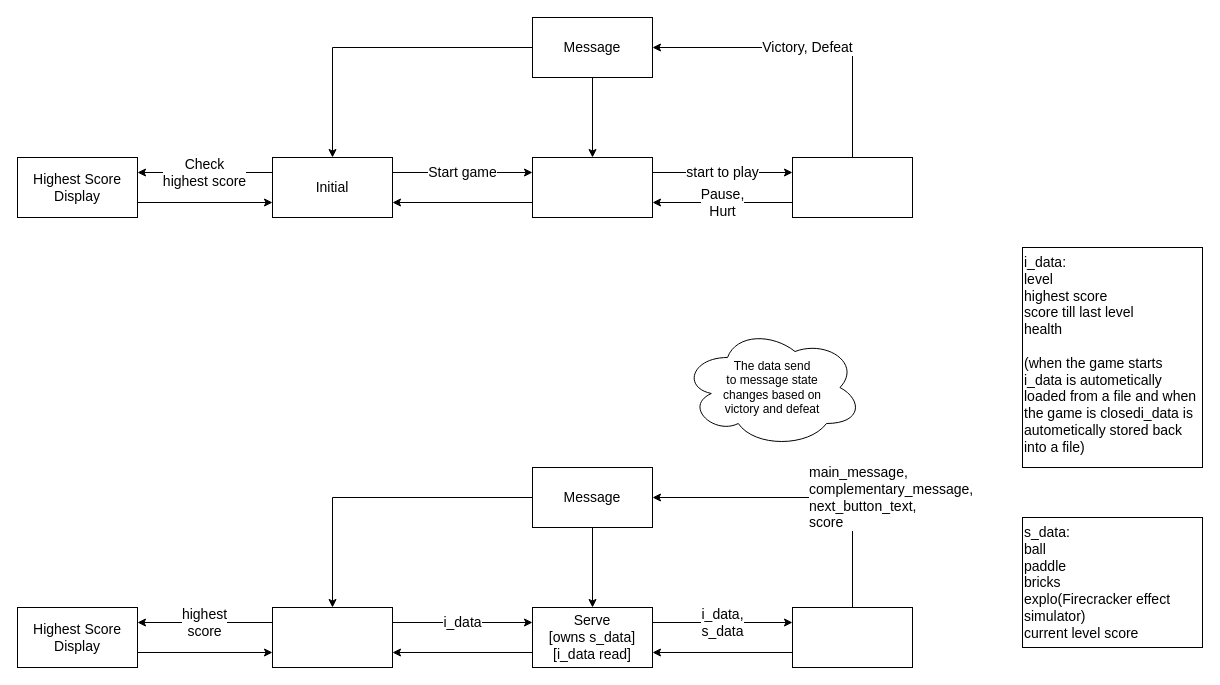
Image size: 1220x685. Some labels were removed from this diagram. The box of each missing label's shape, as (x1, y1, x2, y2) in pixels:
Initial [owns i_data]: (272, 606, 392, 668)
Play: (792, 156, 912, 218)
Play [s_data, i_data read]: (792, 606, 912, 668)
Serve: (532, 156, 652, 218)
